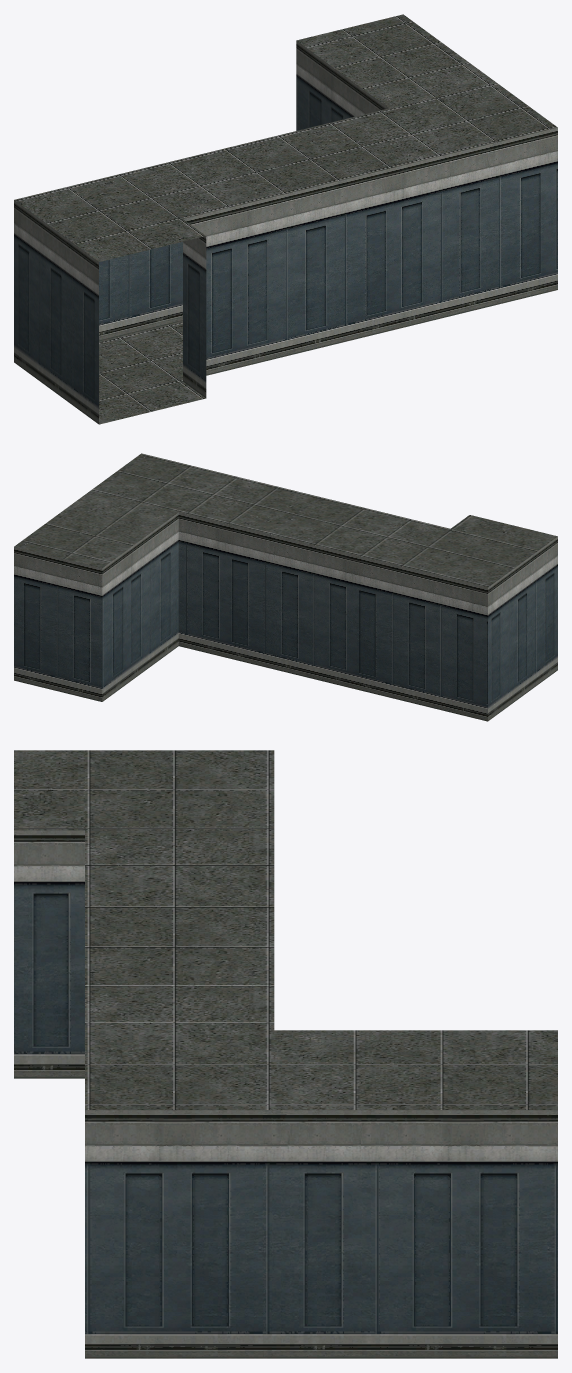
Rendered from thm_corl_imprv_building_block_32x16_s01_r1_spawn1_mesh_r1.fbx.
3 renders of one model, top to bottom at view 1: azimuth 30°, elevation 25°; view 2: azimuth 150°, elevation 25°; view 3: azimuth 270°, elevation 25°, orthographic. The views are drawn at different scales.
Visible parts, largest first — view 1: mesh_node; view 2: mesh_node; view 3: mesh_node.
Boxes of the visible parts, bbox=[...] form: mesh_node: bbox=[14, 14, 557, 424]; mesh_node: bbox=[14, 453, 557, 721]; mesh_node: bbox=[14, 750, 557, 1358].
Bounding box in the file's own units: 9 × 2.9 × 5.75.
